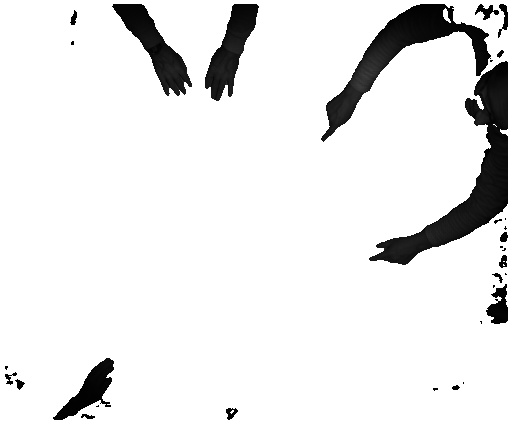hand: (146, 49, 191, 95), (80, 352, 119, 405), (368, 235, 423, 271), (320, 91, 358, 143), (202, 55, 243, 103)
